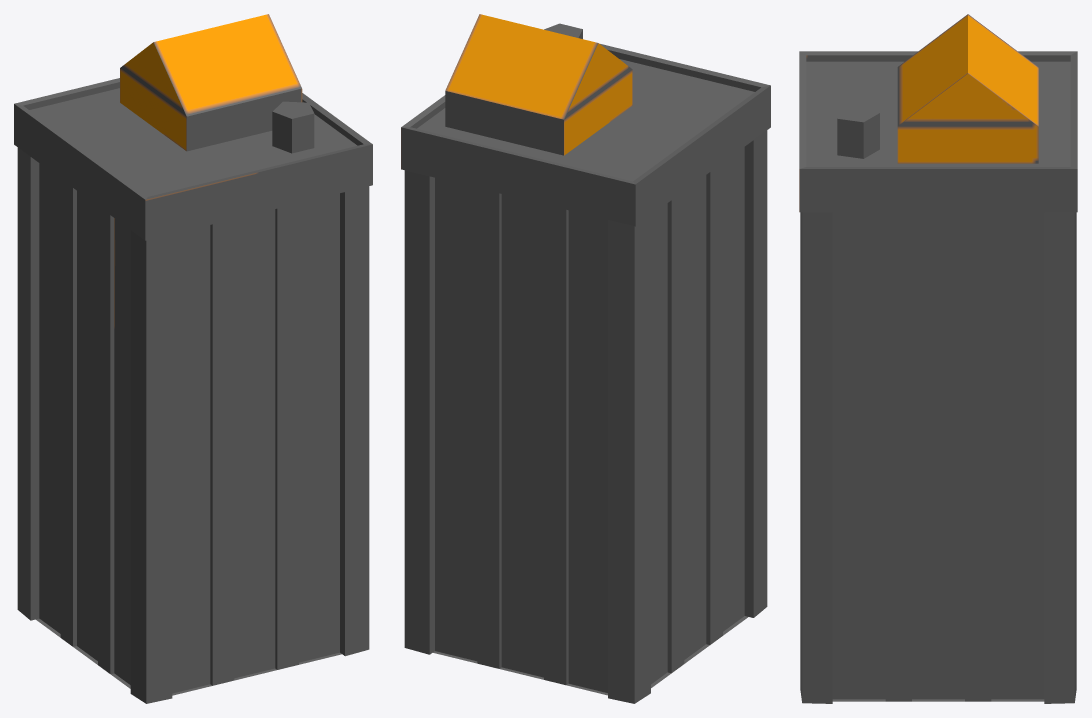
The model's file is building2.obj.
3 renders of one model, left to right at view 1: azimuth 30°, elevation 25°; view 2: azimuth 150°, elevation 25°; view 3: azimuth 270°, elevation 25°, orthographic. The views are drawn at different scales.
Visible parts, largest first — view 1: Cube; view 2: Cube; view 3: Cube.
Part boxes in pixels (bbox=[...]): Cube: bbox=[14, 14, 372, 703]; Cube: bbox=[401, 14, 770, 703]; Cube: bbox=[799, 14, 1077, 703].
Bounding box in the file's own units: 2.11 × 5.16 × 2.11.
1 material, 1 textured.
